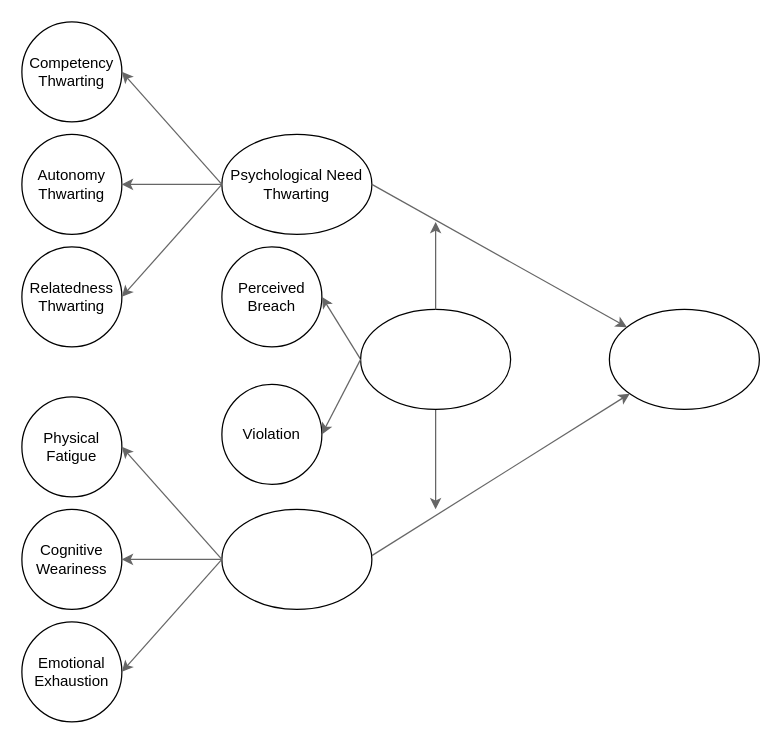
This 781x744 diagram has some shape labels left out. The centre of each missing label's shape, as x and y in pixels:
Burnout: point (296, 558)
Psychological Contract: point (435, 358)
Turnover Intention: point (683, 358)
